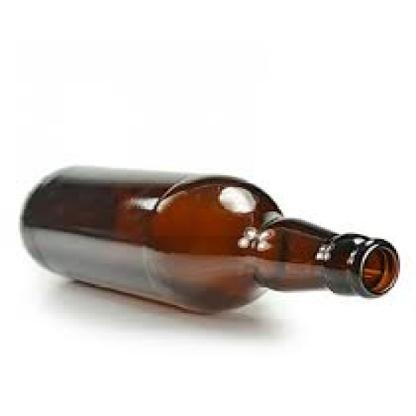trash: (22, 166, 399, 312)
